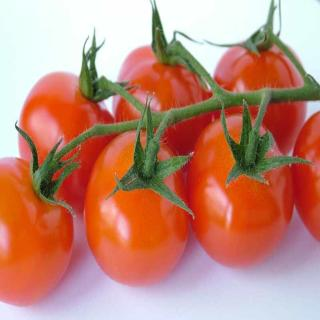tomato: (18, 24, 140, 214), (83, 90, 195, 288), (186, 96, 312, 270), (115, 0, 212, 164), (211, 0, 312, 153), (0, 121, 81, 306), (290, 111, 319, 242)
